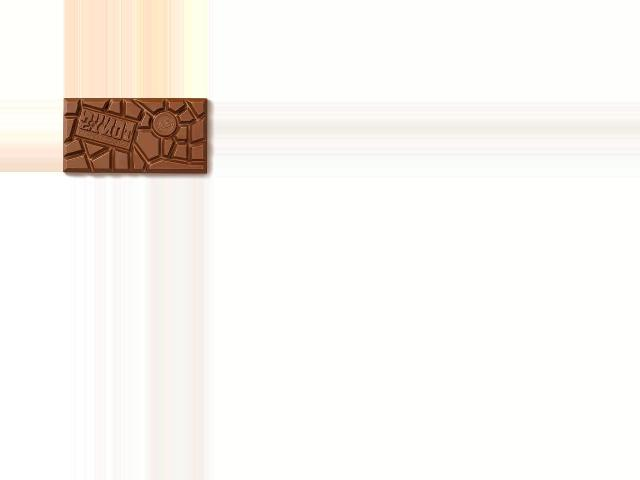chocolate: (62, 98, 208, 177)
